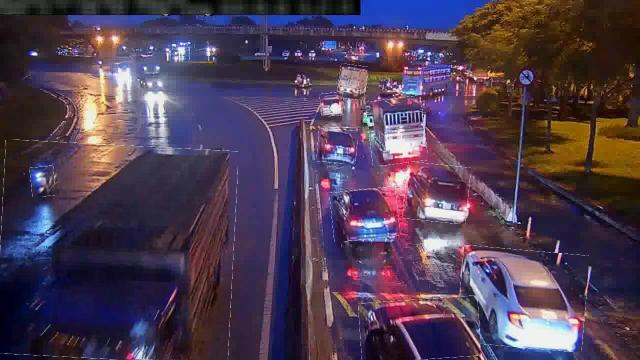Bike: (31, 166, 55, 196)
Car: (458, 248, 588, 350), (360, 297, 480, 359), (404, 163, 470, 223), (331, 188, 399, 240), (318, 128, 358, 164), (320, 92, 344, 116)
Truck: (0, 142, 236, 360), (368, 97, 427, 165), (338, 64, 367, 100)
